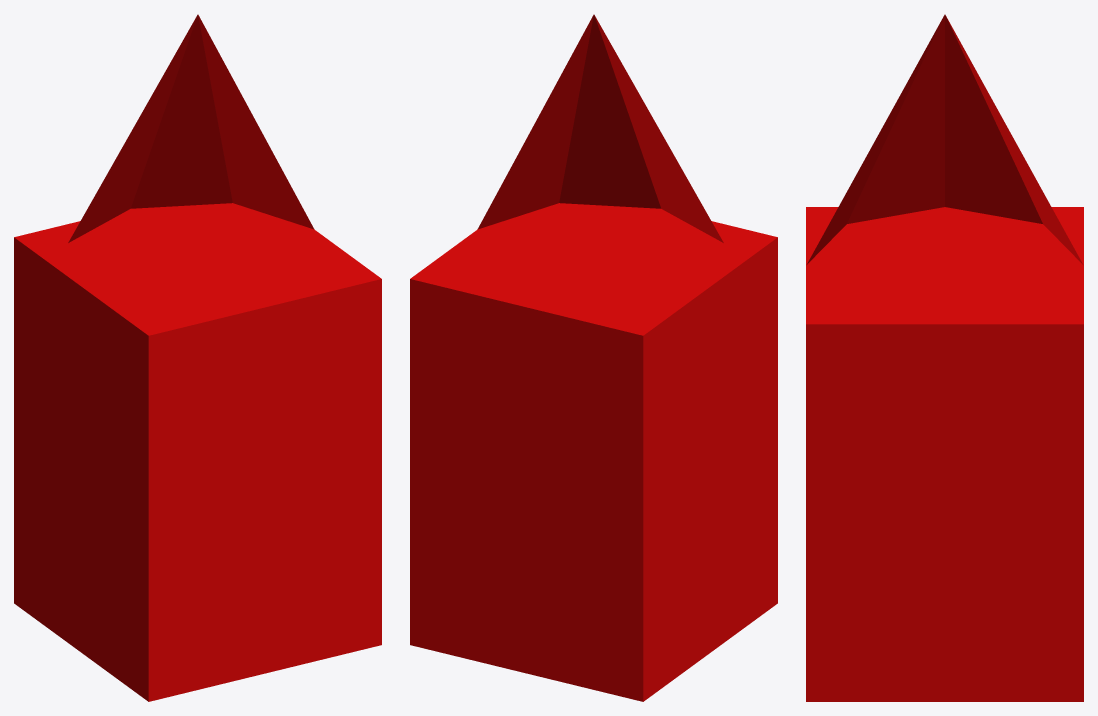
Rendered from st-basils.glb.
The picture shows the model from 3 angles, left to right: view 1: azimuth 30°, elevation 25°; view 2: azimuth 150°, elevation 25°; view 3: azimuth 270°, elevation 25°; orthographic projection. The views are drawn at different scales.
Visible parts, largest first — view 1: st-basils; view 2: st-basils; view 3: st-basils.
Boxes of the visible parts, left/top/right/bottom form: st-basils: left=14, top=14, right=381, bottom=701; st-basils: left=410, top=14, right=777, bottom=701; st-basils: left=806, top=14, right=1083, bottom=701.
Size of the model in its own units: 0.4 by 1 by 0.4.
